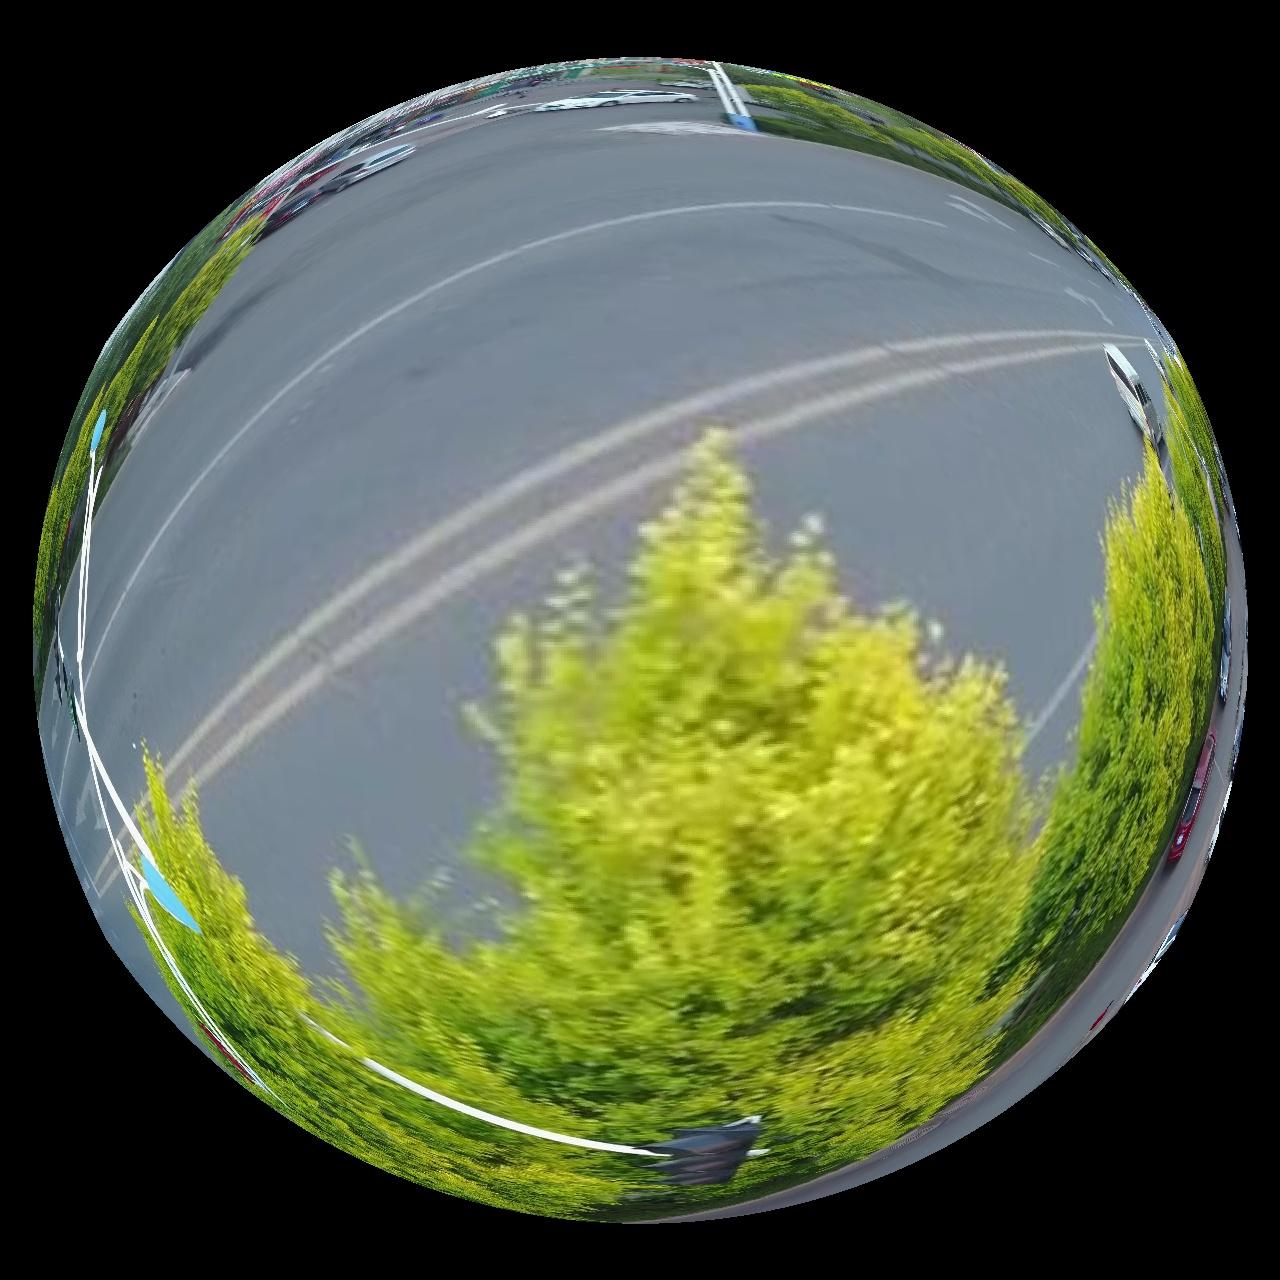cars: (320, 142, 416, 192)
trees: (137, 357, 1228, 1218), (710, 61, 1086, 248)
